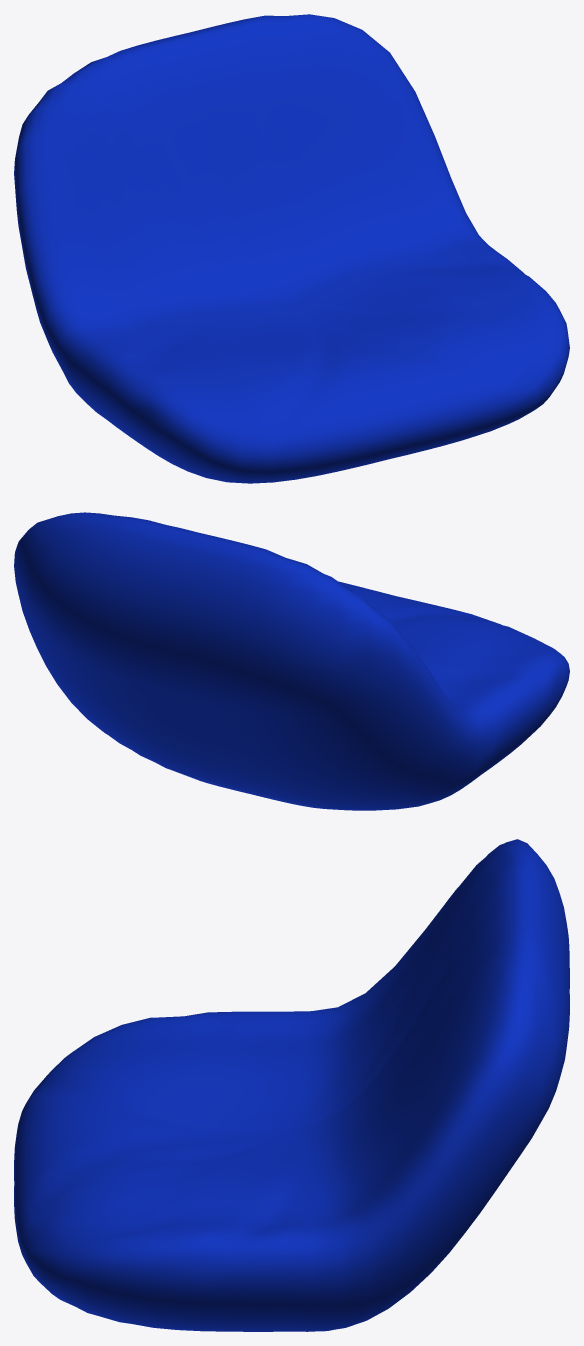
Rendered from beanBag-3.glb.
3 views of the same model, one above another, from view 1: azimuth 30°, elevation 25°; view 2: azimuth 150°, elevation 25°; view 3: azimuth 270°, elevation 25° (orthographic). The views are drawn at different scales.
Parts seen in each view (by area): view 1: beanBag_3_continuous_cloth; view 2: beanBag_3_continuous_cloth; view 3: beanBag_3_continuous_cloth.
Boxes of the visible parts, x1,y1,x2,y2 form: beanBag_3_continuous_cloth: (14, 14, 569, 483); beanBag_3_continuous_cloth: (14, 512, 569, 810); beanBag_3_continuous_cloth: (14, 839, 569, 1331).
Bounding box in the file's own units: 1.02 × 0.7 × 0.98.
